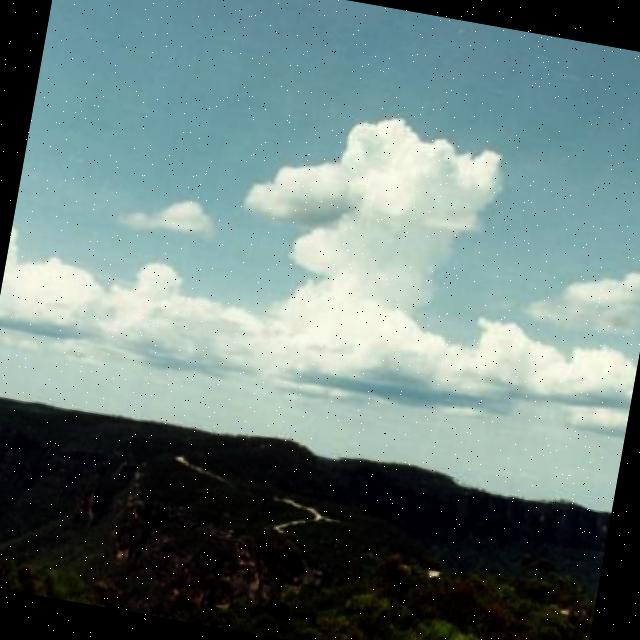Cu: (1, 30, 640, 458)
